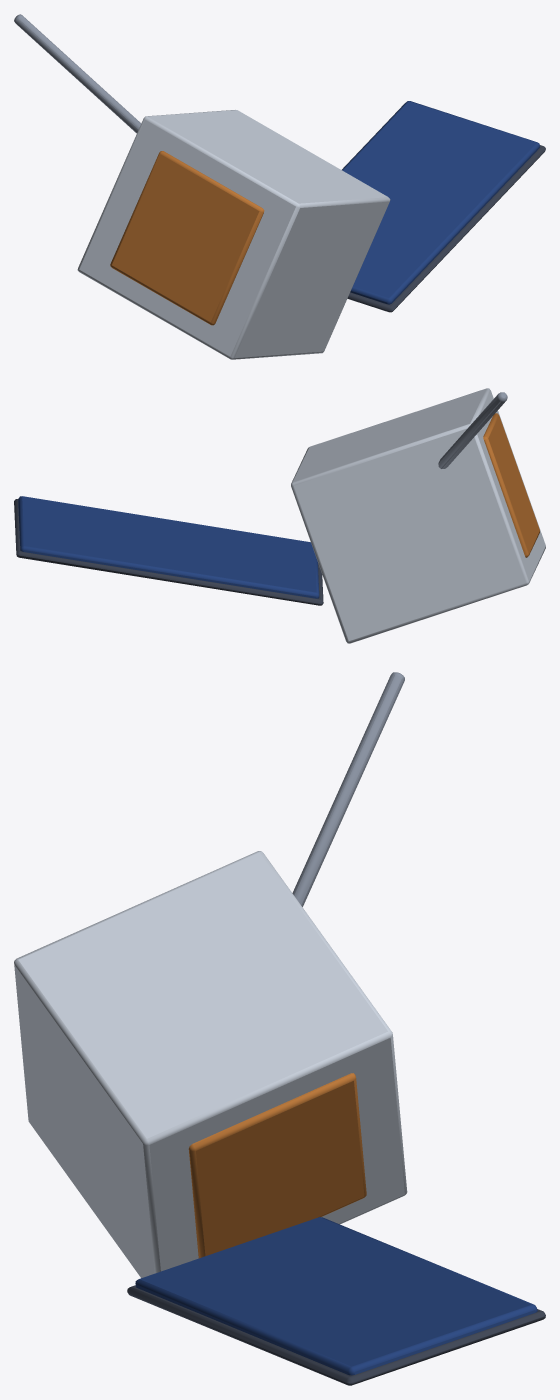
Rendered from schmutz_satellit_1.fbx.
3 views of the same model, one above another, from view 1: azimuth 30°, elevation 25°; view 2: azimuth 150°, elevation 25°; view 3: azimuth 270°, elevation 25° (orthographic). The views are drawn at different scales.
Parts seen in each view (by area): view 1: schmutz_satellit_1_Koerper; view 2: schmutz_satellit_1_Koerper; view 3: schmutz_satellit_1_Koerper.
Part boxes in pixels (x1=…): schmutz_satellit_1_Koerper: x1=14, y1=14, x2=545, y2=359; schmutz_satellit_1_Koerper: x1=14, y1=388, x2=545, y2=643; schmutz_satellit_1_Koerper: x1=14, y1=672, x2=545, y2=1385.
Size of the model in its own units: 1.36 by 0.8344 by 0.8448.
